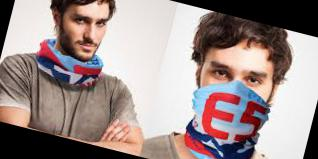mask_weared_incorrect: (51, 7, 117, 76)
with_mask: (193, 53, 277, 130)
